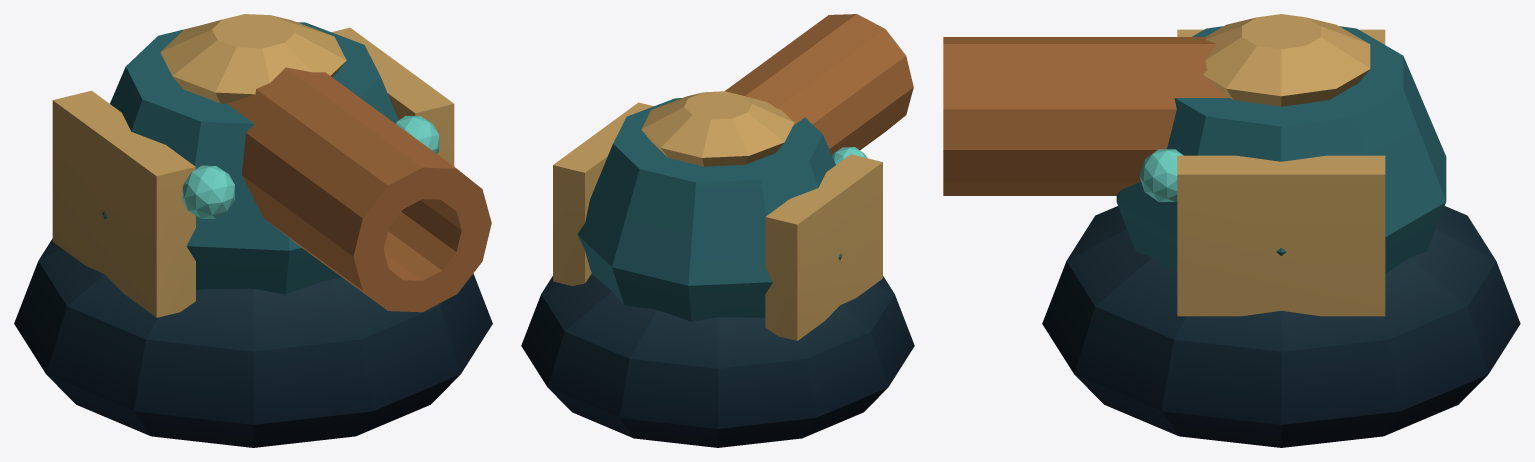
File: models-cannon.glb
3 renders of one model, left to right at view 1: azimuth 30°, elevation 25°; view 2: azimuth 150°, elevation 25°; view 3: azimuth 270°, elevation 25°, orthographic. The views are drawn at different scales.
Visible parts, largest first — view 1: geometry_0; view 2: geometry_0; view 3: geometry_0.
Boxes of the visible parts, x1=… form: geometry_0: x1=14, y1=14, x2=492, y2=447; geometry_0: x1=521, y1=14, x2=914, y2=447; geometry_0: x1=943, y1=14, x2=1520, y2=447.
Bounding box in the file's own units: 1.38 × 1.05 × 1.67.
